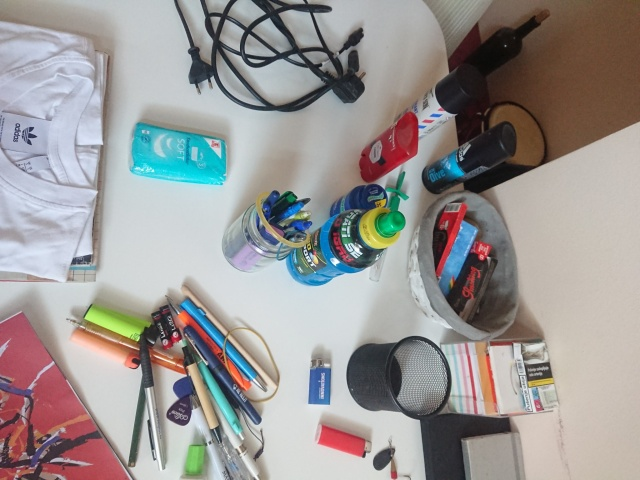Vindi Iso Sport Forest Strawberries 500mL: (284, 204, 406, 287)
